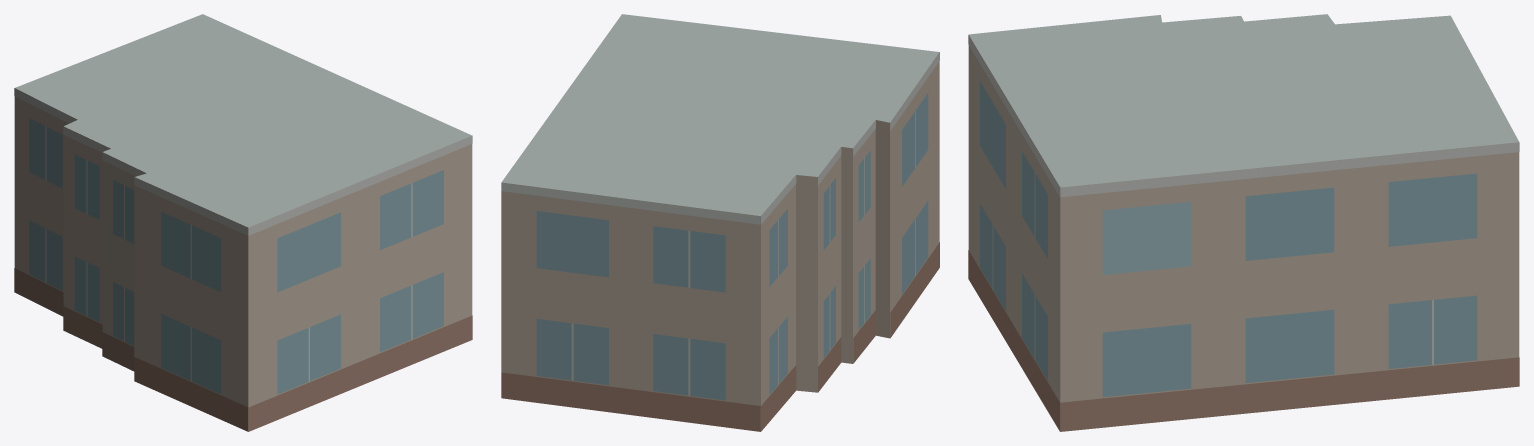
Rendered from survey-upis-32498218.glb.
The picture shows the model from 3 angles, left to right: view 1: azimuth 30°, elevation 25°; view 2: azimuth 150°, elevation 25°; view 3: azimuth 270°, elevation 25°; orthographic projection. The views are drawn at different scales.
Parts seen in each view (by area): view 1: survey-upis-32498218.tmp; view 2: survey-upis-32498218.tmp; view 3: survey-upis-32498218.tmp.
Boxes of the visible parts, <box> form: survey-upis-32498218.tmp: <box>14,14,472,431</box>; survey-upis-32498218.tmp: <box>501,14,939,431</box>; survey-upis-32498218.tmp: <box>968,14,1519,431</box>.
Bounding box in the file's own units: 9.3 × 6.1 × 12.48.
